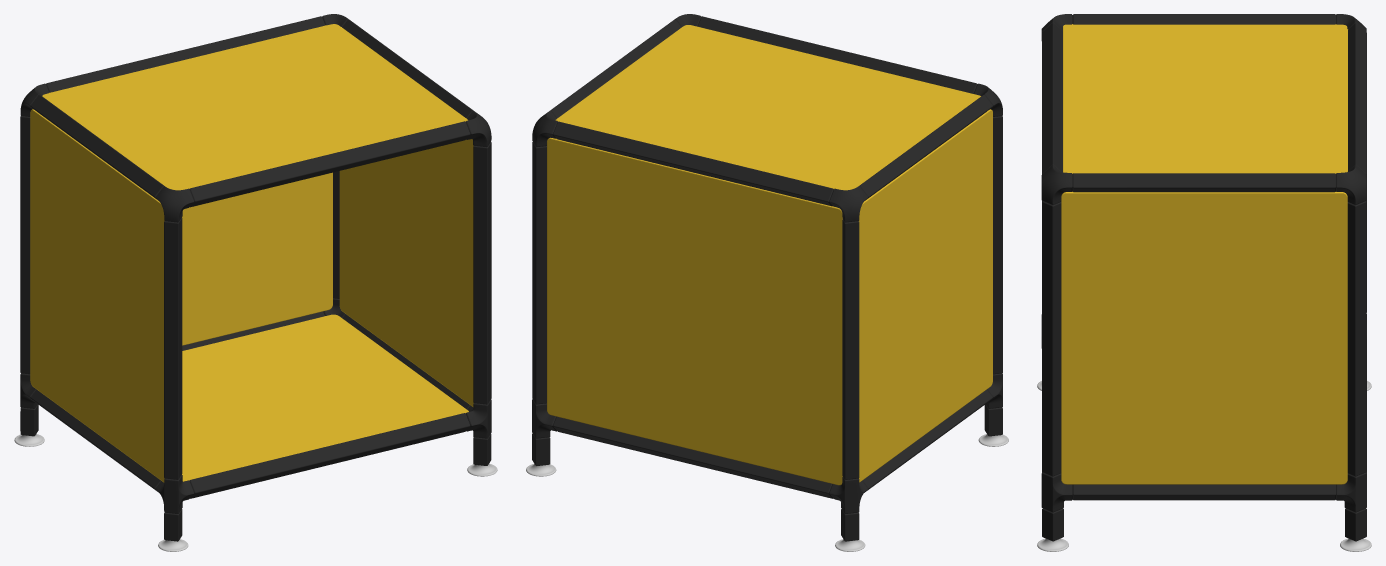
3 views of the same model, side by side, from view 1: azimuth 30°, elevation 25°; view 2: azimuth 150°, elevation 25°; view 3: azimuth 270°, elevation 25° (orthographic). The views are drawn at different scales.
Visible parts, largest first — view 1: 420x329x374; view 2: 420x329x374; view 3: 420x329x374.
Part boxes in pixels (x1,y1,x2,y2): 420x329x374: [14, 14, 497, 551]; 420x329x374: [526, 14, 1008, 551]; 420x329x374: [1037, 14, 1371, 551].
Bounding box in the file's own units: 0.5099 × 0.5133 × 0.4182.
